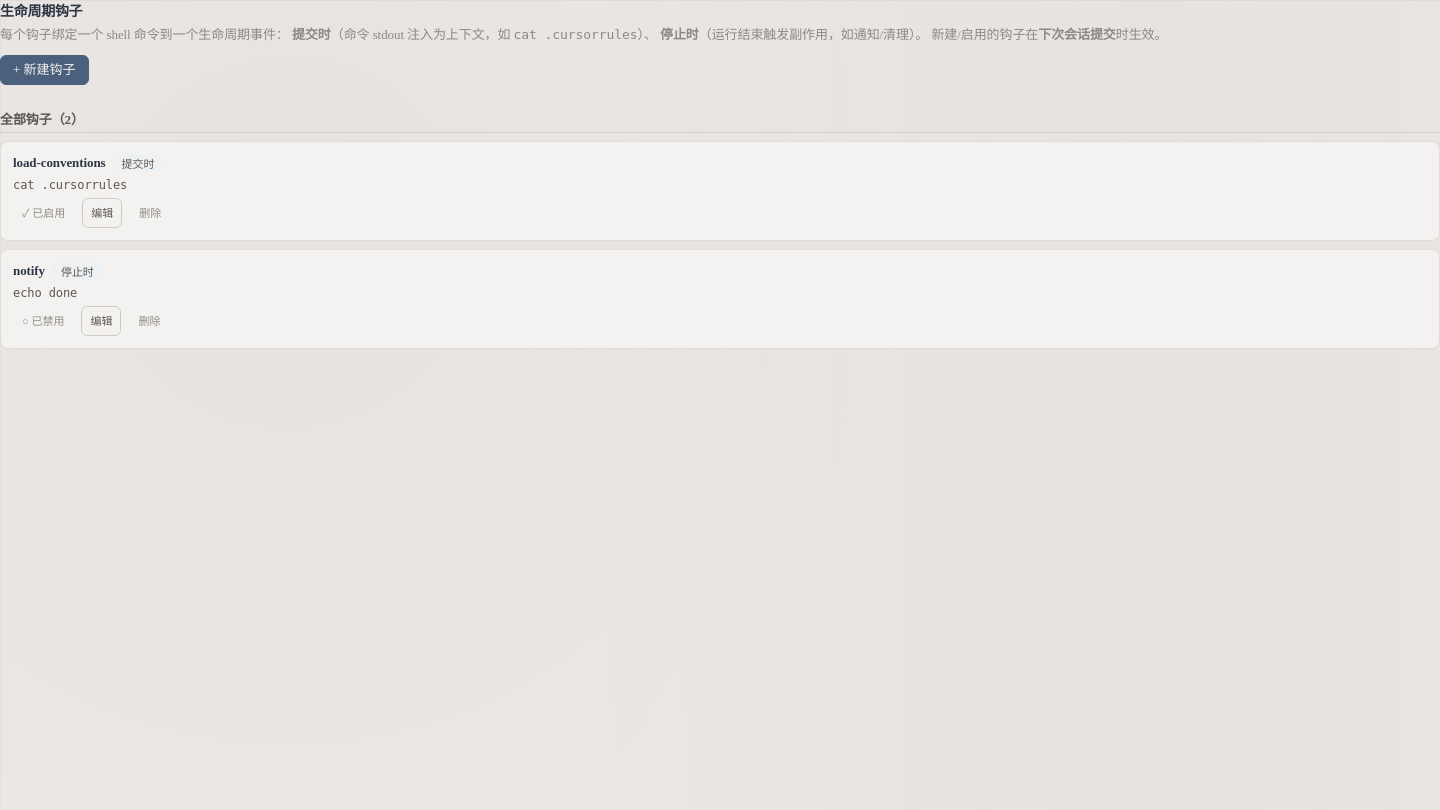
Test: HooksSection › loads an existing hook into the form on edit
Expected: the text "load-conventions" is shown, [13, 155, 106, 171]
Click the button with aria-label "编辑钩子 load-conventions" at (102, 213), box [82, 198, 122, 228]
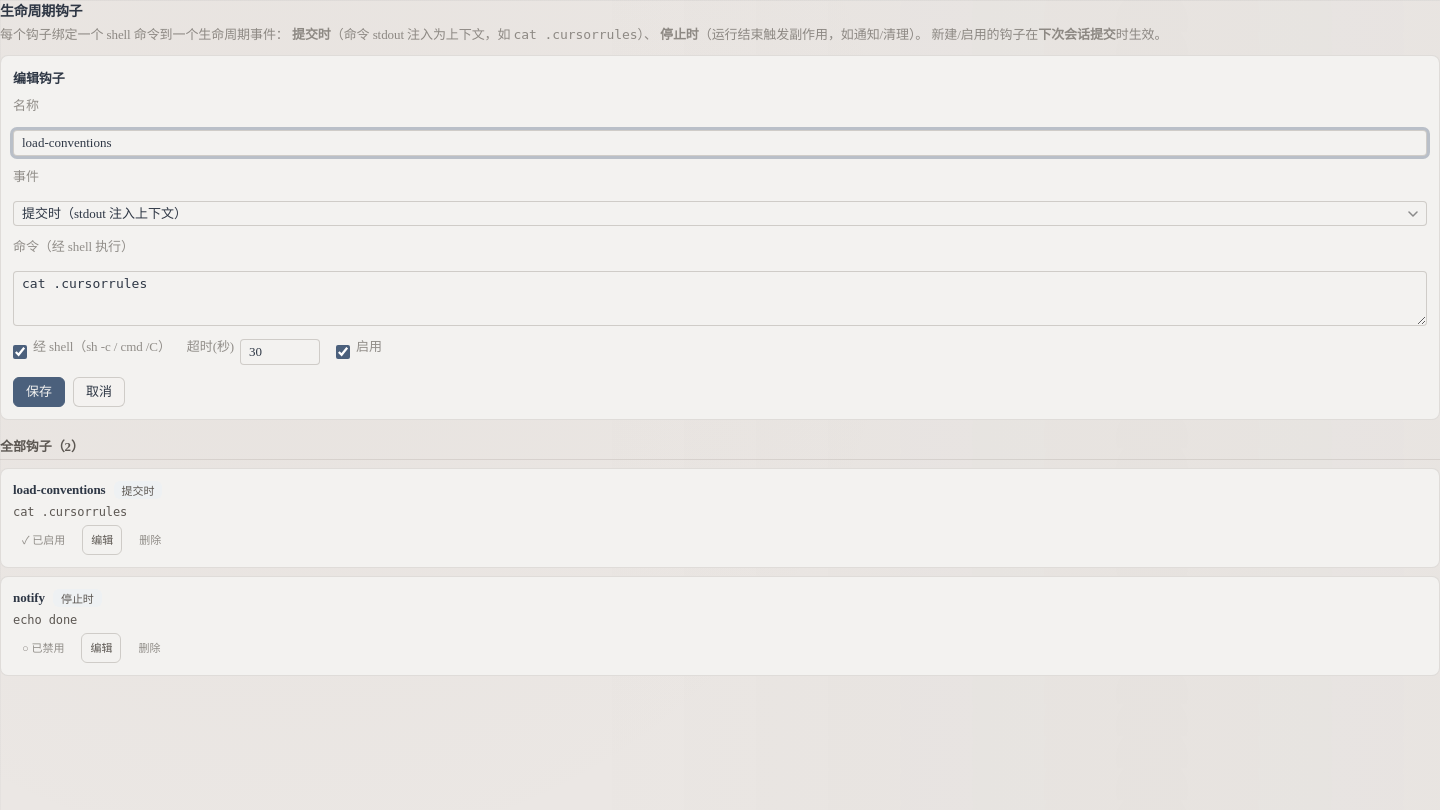
Now the field showing "load-conventions" is shown, box [13, 130, 1427, 156]
Now the text box showing "cat .cursorrules" is shown, box [13, 271, 1427, 326]
Now the text "编辑钩子" is shown, box [13, 68, 65, 87]
